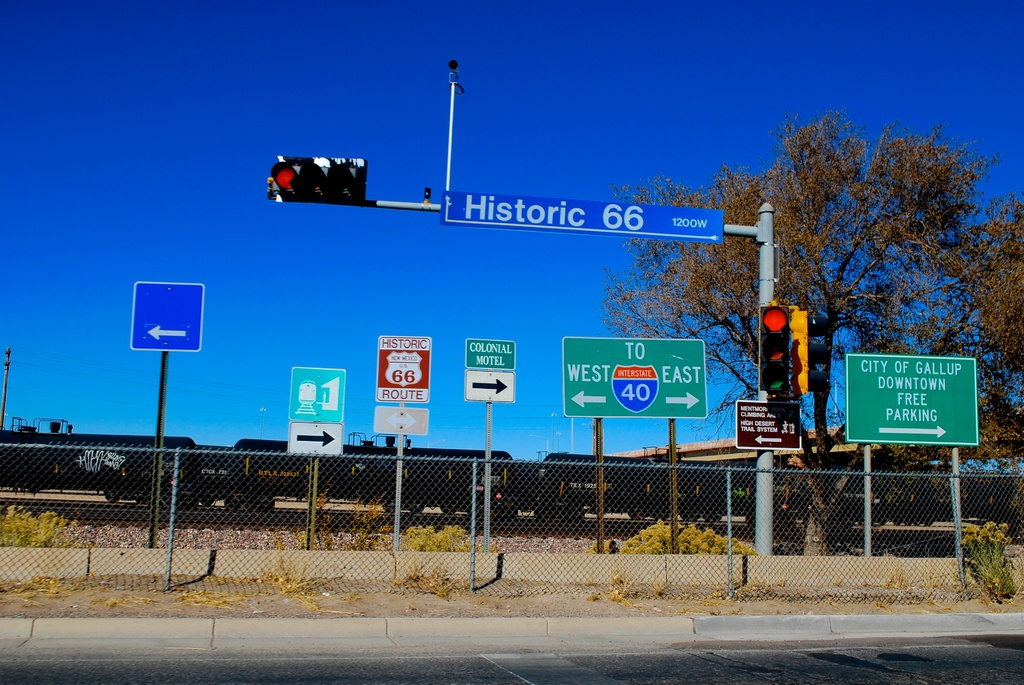red_light: (271, 161, 355, 198), (758, 306, 791, 392)
